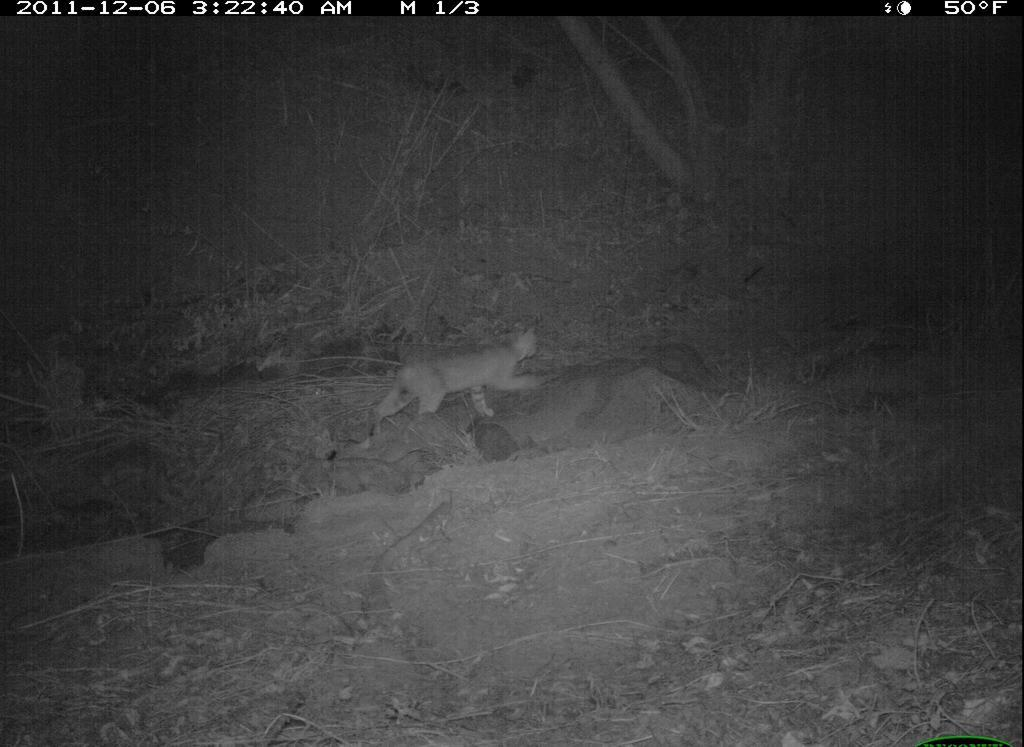bobcat: (359, 315, 552, 451)
